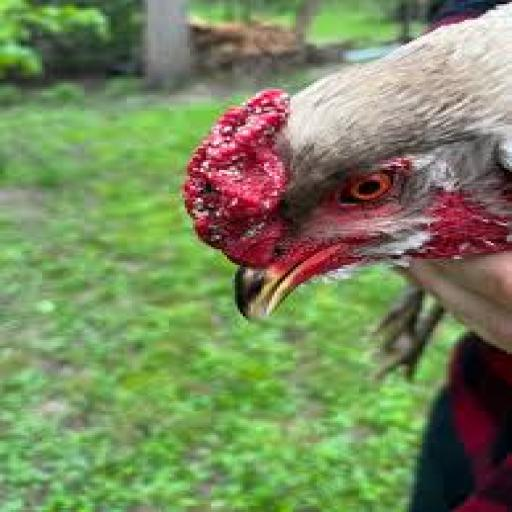disease: (165, 72, 319, 273)
